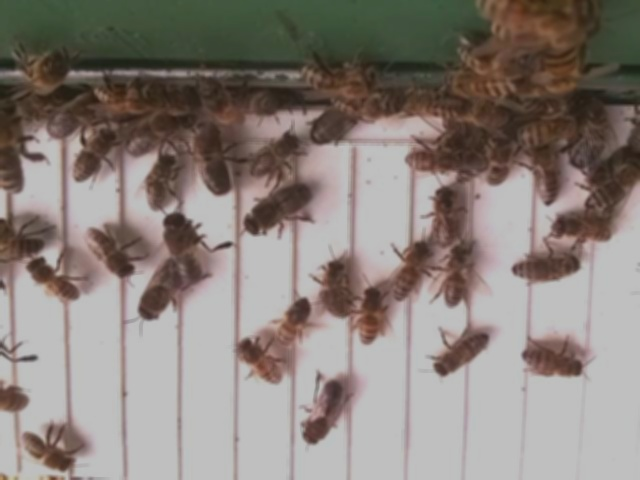Drone: (239, 183, 313, 239), (160, 211, 208, 287), (190, 118, 234, 200), (298, 378, 346, 449), (136, 262, 182, 325)
Worker: (431, 329, 490, 380), (82, 226, 135, 282), (388, 240, 434, 304), (69, 127, 116, 187), (245, 132, 302, 181), (234, 335, 285, 389), (17, 430, 77, 475), (26, 257, 79, 305), (582, 173, 639, 214), (427, 185, 461, 252), (508, 253, 581, 284), (398, 145, 466, 178), (141, 152, 176, 216), (273, 293, 310, 352), (518, 346, 585, 378), (527, 145, 560, 209), (550, 215, 614, 247), (441, 241, 470, 311), (318, 259, 350, 321), (356, 287, 381, 350)
